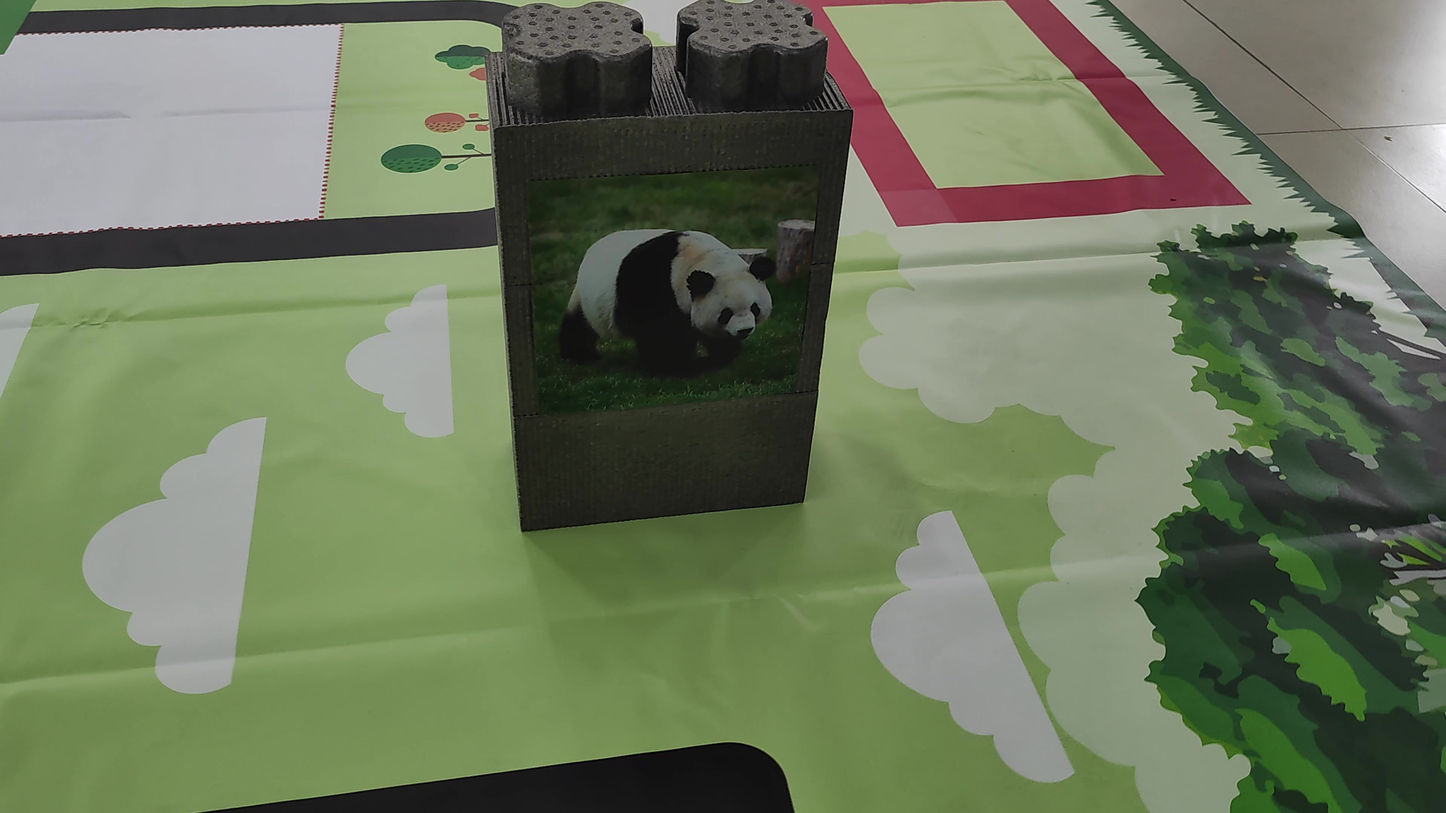panda: (543, 199, 797, 414)
